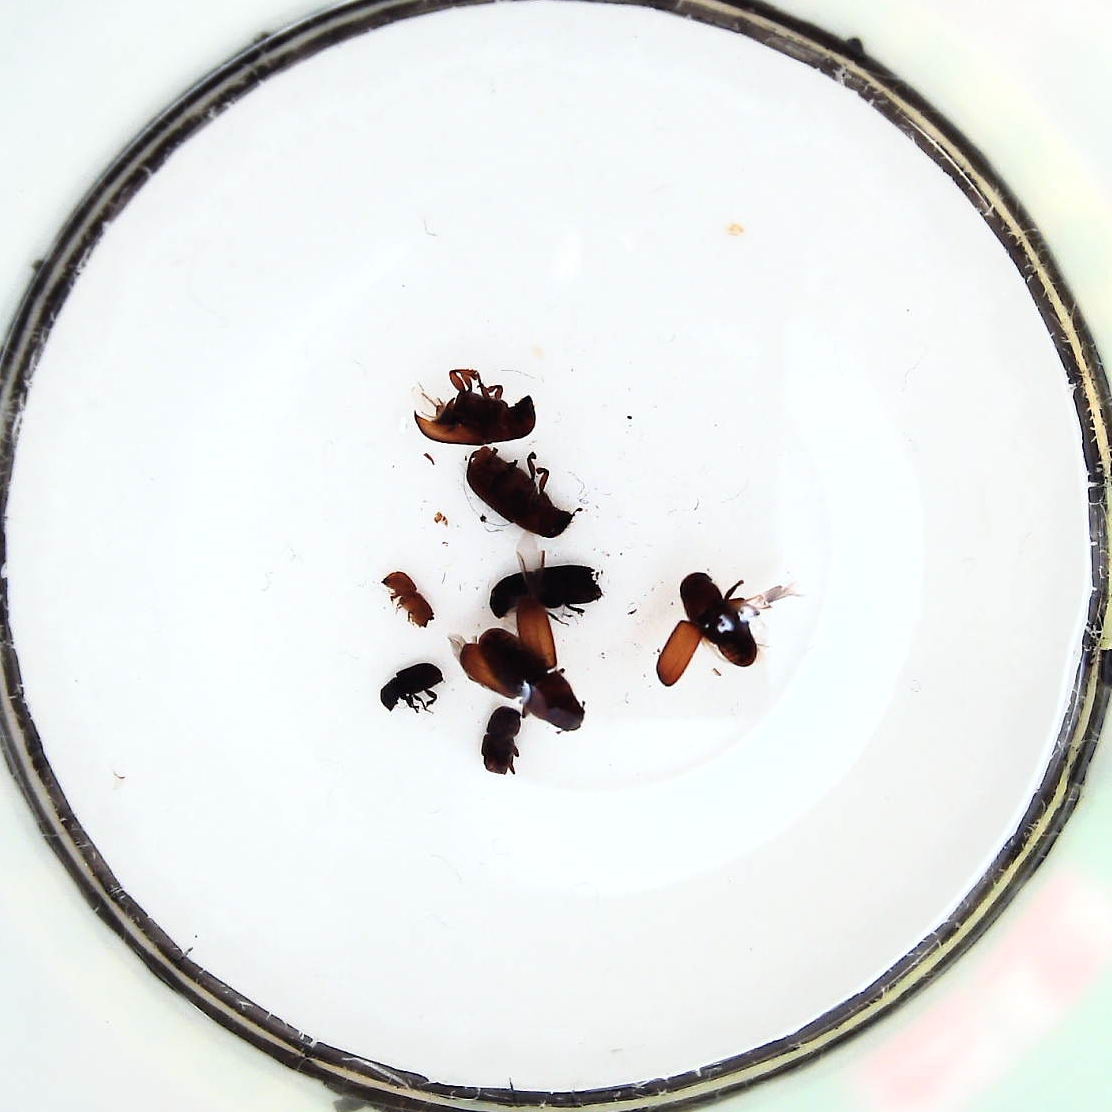Boerner: (488, 563, 605, 618)
Leconte: (656, 569, 796, 688), (458, 610, 591, 729), (465, 446, 580, 539), (412, 366, 537, 447)
Linnaeus: (476, 703, 527, 776)
acuminatus: (383, 569, 434, 631)
armandi: (377, 659, 442, 716)
